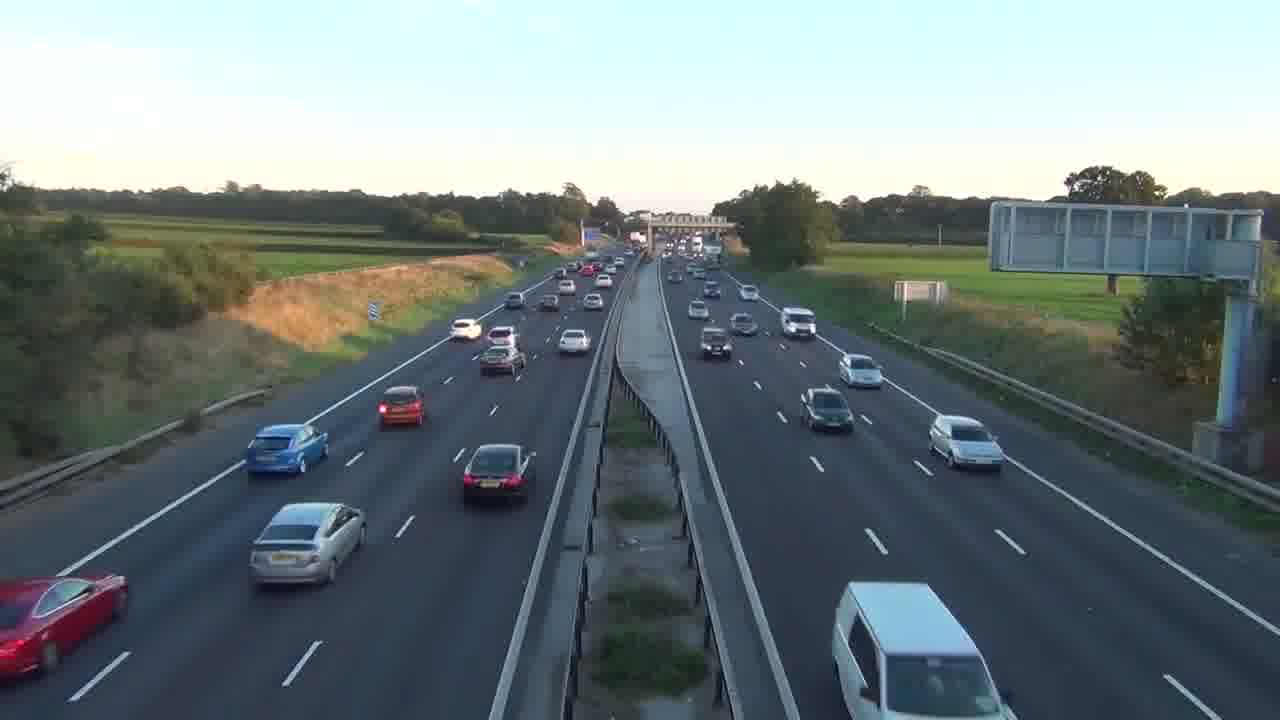car: (0, 569, 129, 683), (248, 500, 366, 588), (927, 413, 1007, 472), (461, 443, 537, 505), (245, 423, 329, 478), (799, 385, 854, 432), (376, 384, 427, 429), (836, 352, 884, 390), (475, 344, 526, 378), (556, 327, 591, 356)
truck: (831, 578, 1019, 719)
